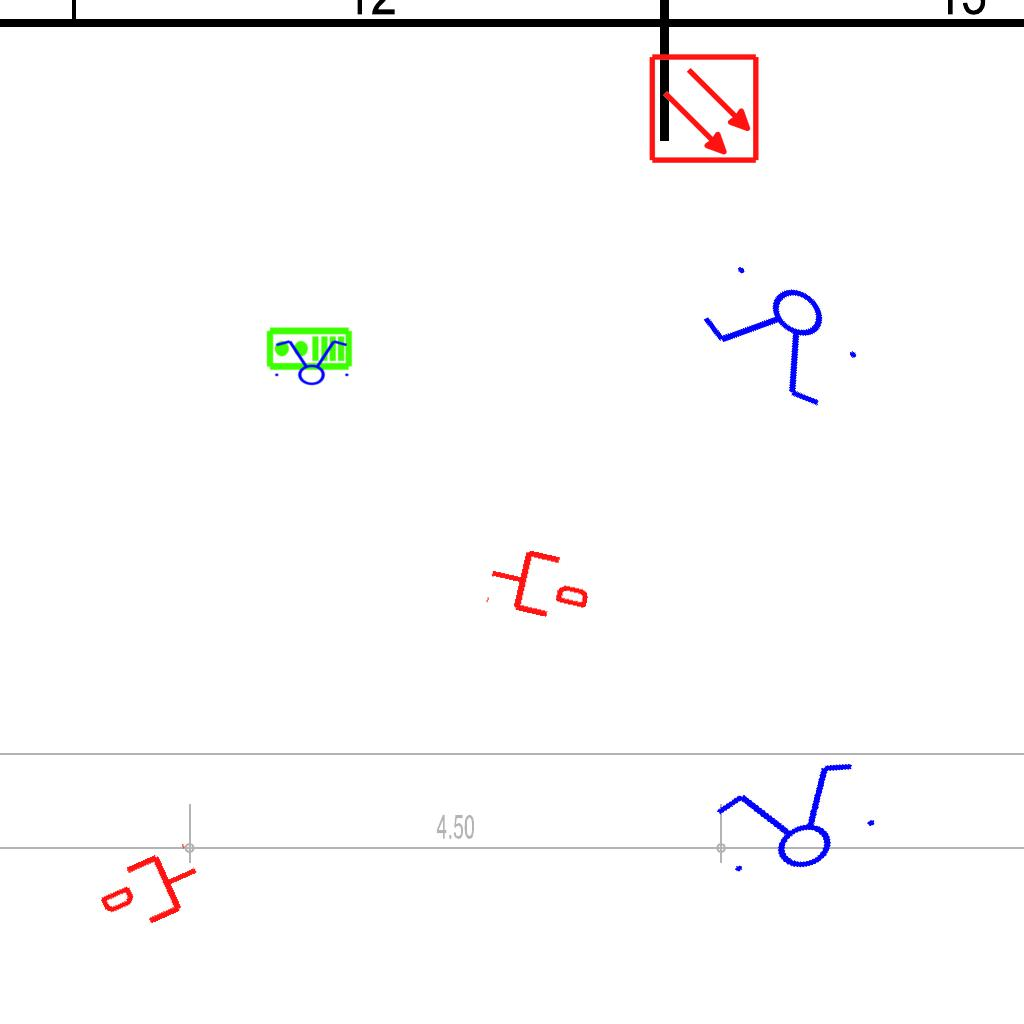Datenanschluss_einfach: (91, 838, 212, 942), (483, 539, 596, 629)
Gegensprechanlage_mit_Video: (265, 326, 353, 373)
RMO_Rauchmelder_optischer: (648, 52, 761, 165)
Serienschalter: (687, 245, 879, 423), (699, 749, 891, 895), (269, 338, 353, 386)
